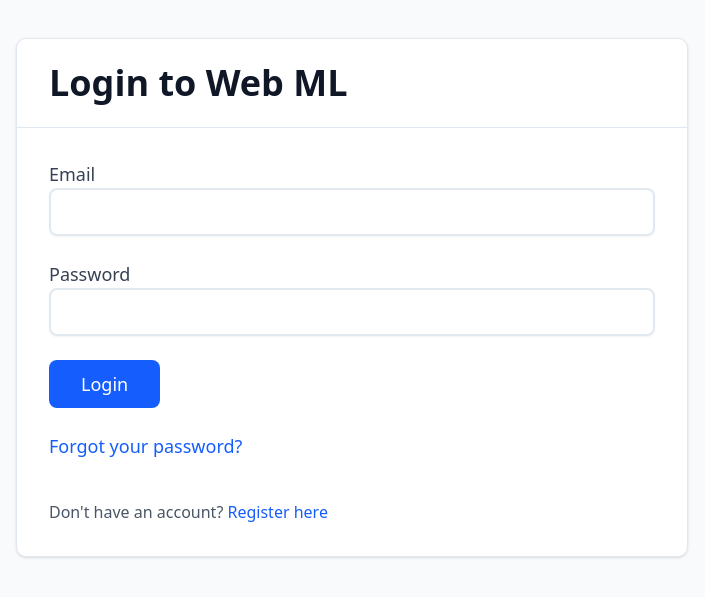
Scenario: LoginPage › shows fallback error text if rejected value has no message
Type "no-msg@example.com" into the field labelled "Email". click: (352, 212)
box: [49, 188, 655, 236]
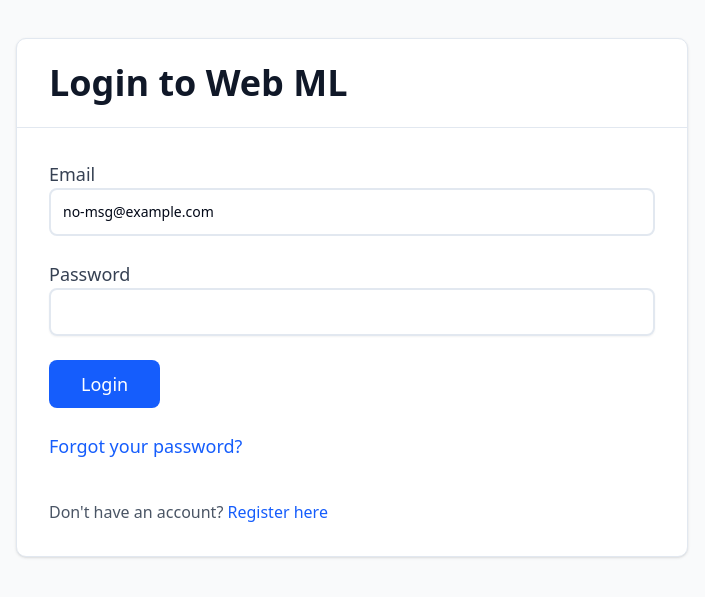
Type "nope" into the password field labelled "Password". click: (352, 312)
box: [49, 288, 655, 336]
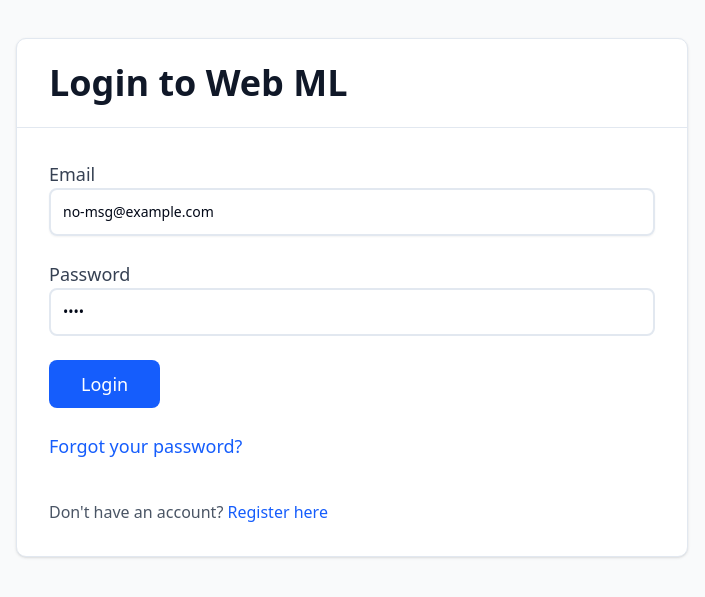
Click the button "Login". click: (105, 384)
box: [49, 360, 160, 408]
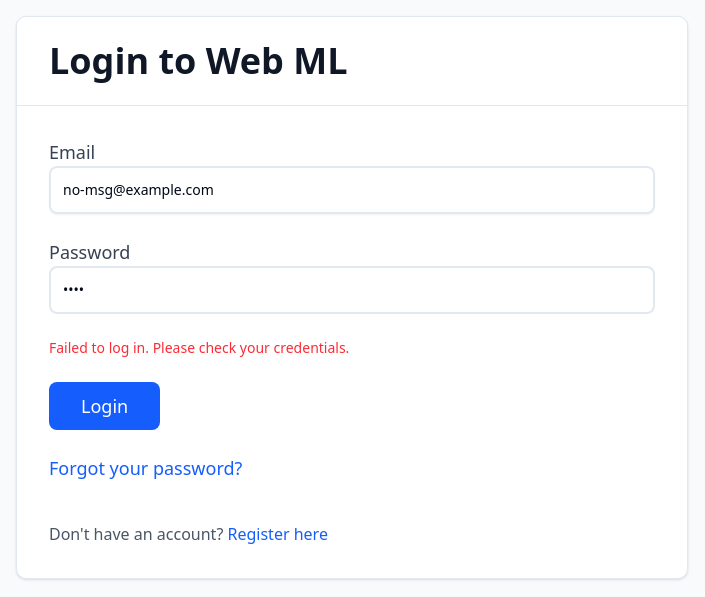
Result: the text "Failed to log in. Please check your credentials." is shown at [49, 338, 349, 356]
